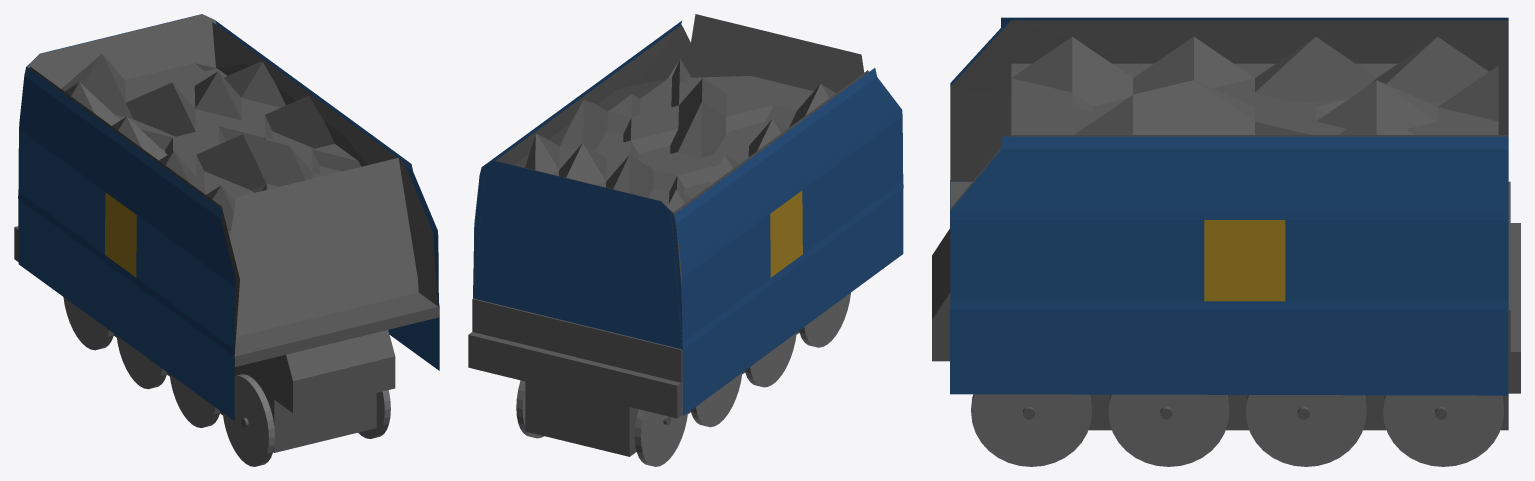
The model's file is lner-a4-tender-brblue.dae.
3 views of the same model, side by side, from view 1: azimuth 30°, elevation 25°; view 2: azimuth 150°, elevation 25°; view 3: azimuth 270°, elevation 25° (orthographic). The views are drawn at different scales.
Parts seen in each view (by area): view 1: Plane_028, Plane_055, Plane_007, Plane_066, Plane_002, Plane_027, Plane, Plane_003, Plane_001, Cylinder_004, Plane_063, Plane_068 (+13 smaller); view 2: Plane_005, Plane_028, Plane_007, Plane_066, Plane_055, Plane_004, Plane_006, Plane_001, Plane_003, Plane_063, Plane_068, Cylinder_010 (+12 smaller); view 3: Plane_046, Plane_028, Plane_022, Plane_026, Plane_016, Cylinder_005, Cylinder, Cylinder_008, Cylinder_011, Plane_019, Plane_060, Plane_017 (+17 smaller).
Part boxes in pixels (x1=…): Plane_028: x1=61, y1=54, x2=405, y2=237; Plane_055: x1=230, y1=158, x2=418, y2=336; Plane_007: x1=18, y1=199, x2=234, y2=420; Plane_066: x1=19, y1=75, x2=235, y2=279; Plane_002: x1=234, y1=330, x2=395, y2=413; Plane_027: x1=18, y1=14, x2=216, y2=193; Plane: x1=234, y1=292, x2=439, y2=366; Plane_003: x1=212, y1=22, x2=438, y2=306; Plane_001: x1=114, y1=334, x2=376, y2=452; Cylinder_004: x1=222, y1=374, x2=274, y2=466; Plane_063: x1=191, y1=255, x2=234, y2=348; Plane_068: x1=24, y1=66, x2=222, y2=218; Plane_005: x1=473, y1=161, x2=682, y2=349; Plane_028: x1=515, y1=59, x2=835, y2=212; Plane_007: x1=682, y1=189, x2=903, y2=415; Plane_066: x1=676, y1=77, x2=901, y2=270; Plane_055: x1=686, y1=14, x2=864, y2=92; Plane_004: x1=468, y1=332, x2=681, y2=418; Plane_006: x1=472, y1=298, x2=682, y2=382; Plane_001: x1=525, y1=331, x2=799, y2=456; Plane_003: x1=474, y1=25, x2=690, y2=298; Plane_063: x1=858, y1=117, x2=903, y2=212; Plane_068: x1=674, y1=68, x2=876, y2=223; Cylinder_010: x1=634, y1=382, x2=687, y2=466; Plane_046: x1=950, y1=310, x2=1508, y2=395; Plane_028: x1=1011, y1=36, x2=1498, y2=134; Plane_022: x1=951, y1=149, x2=1508, y2=210; Plane_026: x1=950, y1=20, x2=1508, y2=181; Plane_016: x1=950, y1=220, x2=1061, y2=301; Cylinder_005: x1=971, y1=394, x2=1091, y2=466; Cylinder: x1=1108, y1=394, x2=1229, y2=466; Cylinder_008: x1=1245, y1=395, x2=1366, y2=466; Cylinder_011: x1=1383, y1=395, x2=1503, y2=466; Plane_019: x1=1001, y1=136, x2=1508, y2=149; Plane_060: x1=1427, y1=220, x2=1508, y2=301; Plane_017: x1=1092, y1=220, x2=1173, y2=301.
Bounding box in the file's own units: 2.01 × 3.86 × 2.62.
